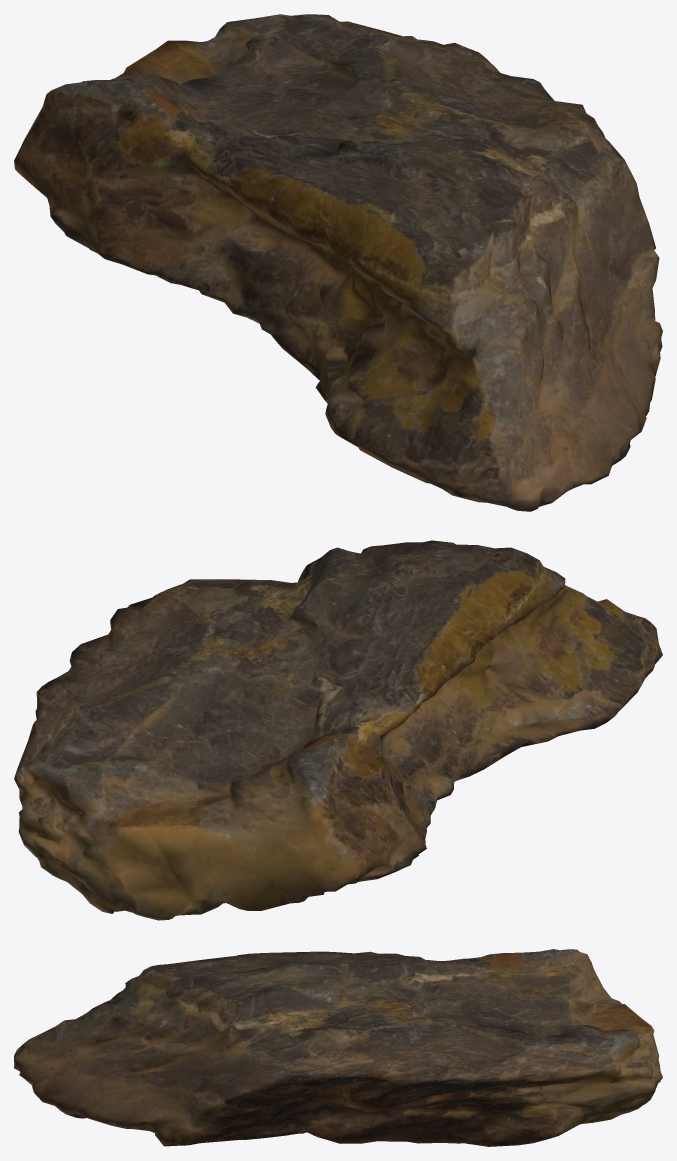
The model's file is rock_09.glb.
3 renders of one model, top to bottom at view 1: azimuth 30°, elevation 25°; view 2: azimuth 150°, elevation 25°; view 3: azimuth 270°, elevation 25°, orthographic. The views are drawn at different scales.
Parts seen in each view (by area): view 1: rock_09_LOD0; view 2: rock_09_LOD0; view 3: rock_09_LOD0.
Part boxes in pixels (x1=…): rock_09_LOD0: x1=14, y1=14, x2=662, y2=511; rock_09_LOD0: x1=14, y1=540, x2=662, y2=920; rock_09_LOD0: x1=14, y1=949, x2=662, y2=1146.
Bounding box in the file's own units: 0.074 × 0.0328 × 0.1446.
1 material, 1 textured.
